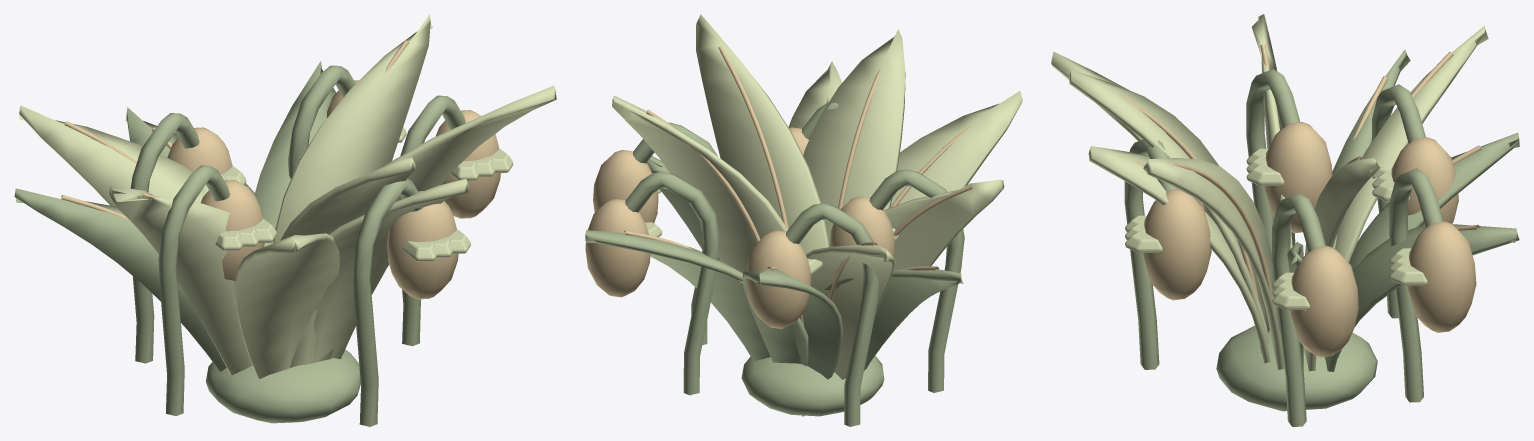
Rendered from bio_mist_leaf_18_far.glb.
The picture shows the model from 3 angles, left to right: view 1: azimuth 30°, elevation 25°; view 2: azimuth 150°, elevation 25°; view 3: azimuth 270°, elevation 25°; orthographic projection. The views are drawn at different scales.
Visible parts, largest first — view 1: Cupped condensate leaf.008, Cupped condensate leaf.007, Cupped condensate leaf.004, Root rosette, Cupped condensate leaf.009, Cupped condensate leaf.001, Cupped condensate leaf.010, Arched fruit stem.004, Arched fruit stem.002, Cupped condensate leaf.002, Cupped condensate leaf.005, Pendant spore capsule.002 (+11 smaller); view 2: Cupped condensate leaf.005, Cupped condensate leaf.002, Cupped condensate leaf.008, Cupped condensate leaf.007, Cupped condensate leaf.003, Root rosette, Cupped condensate leaf.004, Cupped condensate leaf.006, Arched fruit stem.003, Cupped condensate leaf.001, Arched fruit stem.001, Pendant spore capsule.001 (+13 smaller); view 3: Root rosette, Cupped condensate leaf.005, Pendant spore capsule.003, Pendant spore capsule, Pendant spore capsule.002, Cupped condensate leaf.002, Cupped condensate leaf.001, Arched fruit stem, Arched fruit stem.003, Pendant spore capsule.004, Cupped condensate leaf.010, Cupped condensate leaf.003 (+16 smaller).
Boxes of the visible parts, <box> form: Cupped condensate leaf.008: <box>273,14,432,243</box>; Cupped condensate leaf.007: <box>234,233,339,379</box>; Cupped condensate leaf.004: <box>109,185,271,375</box>; Root rosette: <box>206,349,360,423</box>; Cupped condensate leaf.009: <box>14,188,226,371</box>; Cupped condensate leaf.001: <box>19,105,205,206</box>; Cupped condensate leaf.010: <box>314,179,468,361</box>; Arched fruit stem.004: <box>158,165,229,415</box>; Arched fruit stem.002: <box>352,178,423,426</box>; Cupped condensate leaf.002: <box>280,157,415,367</box>; Cupped condensate leaf.005: <box>343,85,556,352</box>; Pendant spore capsule.002: <box>387,191,458,299</box>; Cupped condensate leaf.005: <box>696,14,829,253</box>; Cupped condensate leaf.002: <box>803,29,905,246</box>; Cupped condensate leaf.008: <box>612,95,788,273</box>; Cupped condensate leaf.007: <box>890,91,1022,206</box>; Cupped condensate leaf.003: <box>585,230,808,366</box>; Root rosette: <box>741,356,884,416</box>; Cupped condensate leaf.004: <box>865,179,1004,369</box>; Cupped condensate leaf.006: <box>742,269,843,416</box>; Arched fruit stem.003: <box>625,171,720,395</box>; Cupped condensate leaf.001: <box>806,244,895,379</box>; Arched fruit stem.001: <box>786,203,879,426</box>; Pendant spore capsule.001: <box>746,230,811,328</box>; Root rosette: <box>1216,325,1377,411</box>; Cupped condensate leaf.005: <box>1143,158,1284,369</box>; Pendant spore capsule.003: <box>1407,221,1476,332</box>; Pendant spore capsule: <box>1289,246,1358,357</box>; Pendant spore capsule.002: <box>1142,189,1211,300</box>; Cupped condensate leaf.002: <box>1069,69,1265,353</box>; Cupped condensate leaf.001: <box>1335,26,1488,262</box>; Arched fruit stem: <box>1272,193,1325,426</box>; Arched fruit stem.003: <box>1389,168,1443,402</box>; Pendant spore capsule.004: <box>1264,122,1332,233</box>; Cupped condensate leaf.010: <box>1088,146,1270,363</box>; Cupped condensate leaf.003: <box>1324,224,1519,371</box>.
Bounding box in the file's own units: 1.94 × 1.38 × 1.74.
